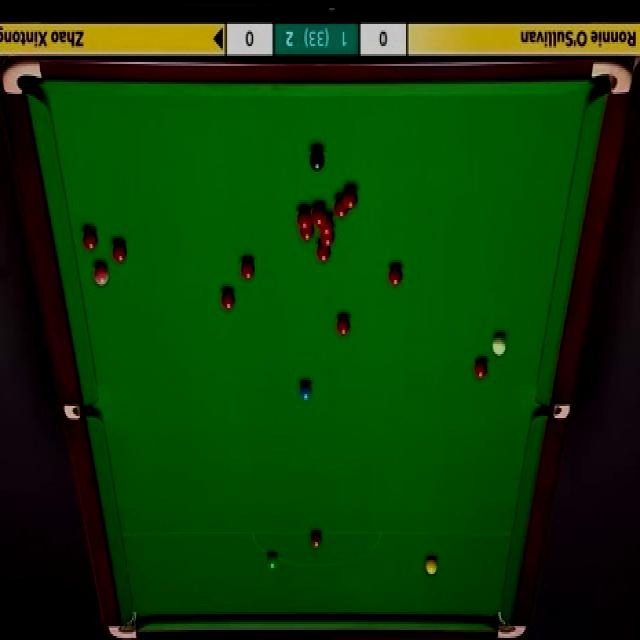black-ball: (309, 150, 326, 172)
blue-ball: (298, 380, 314, 402)
brown-ball: (310, 530, 324, 550)
green-ball: (266, 552, 278, 573)
pink-ball: (92, 263, 110, 286)
red-ball: (472, 357, 490, 379), (82, 229, 99, 252), (112, 240, 127, 266), (342, 186, 357, 212), (220, 290, 237, 312), (336, 314, 351, 338), (388, 266, 404, 288), (334, 196, 349, 219), (297, 207, 311, 231), (241, 259, 256, 281), (312, 204, 326, 227), (317, 242, 331, 264), (320, 229, 336, 247), (320, 215, 333, 235), (298, 227, 314, 243)
white-ball: (492, 332, 507, 357)
yellow-ball: (426, 554, 438, 575)
